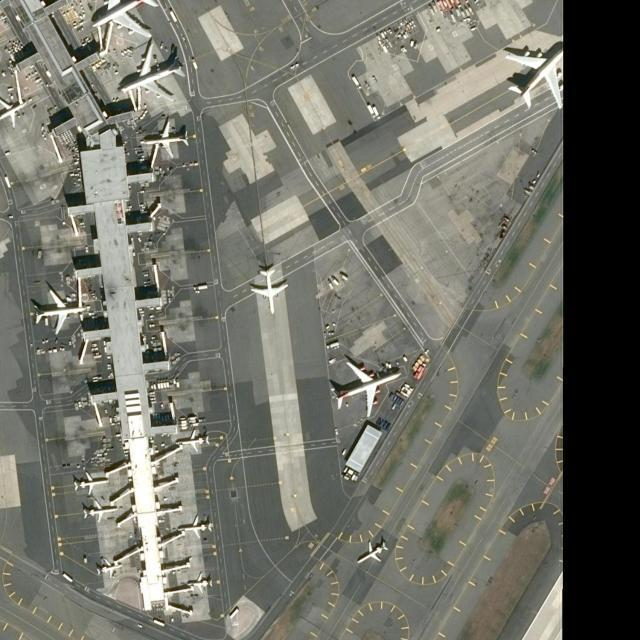Aircraft: (501, 37, 565, 111), (330, 354, 402, 417), (118, 41, 188, 99), (32, 284, 86, 334), (87, 0, 158, 36), (140, 116, 190, 160), (250, 265, 288, 311), (354, 537, 390, 568), (177, 424, 213, 455), (0, 93, 29, 127), (179, 513, 214, 540), (79, 496, 115, 520), (188, 568, 216, 595), (74, 465, 106, 488), (91, 553, 121, 577)
